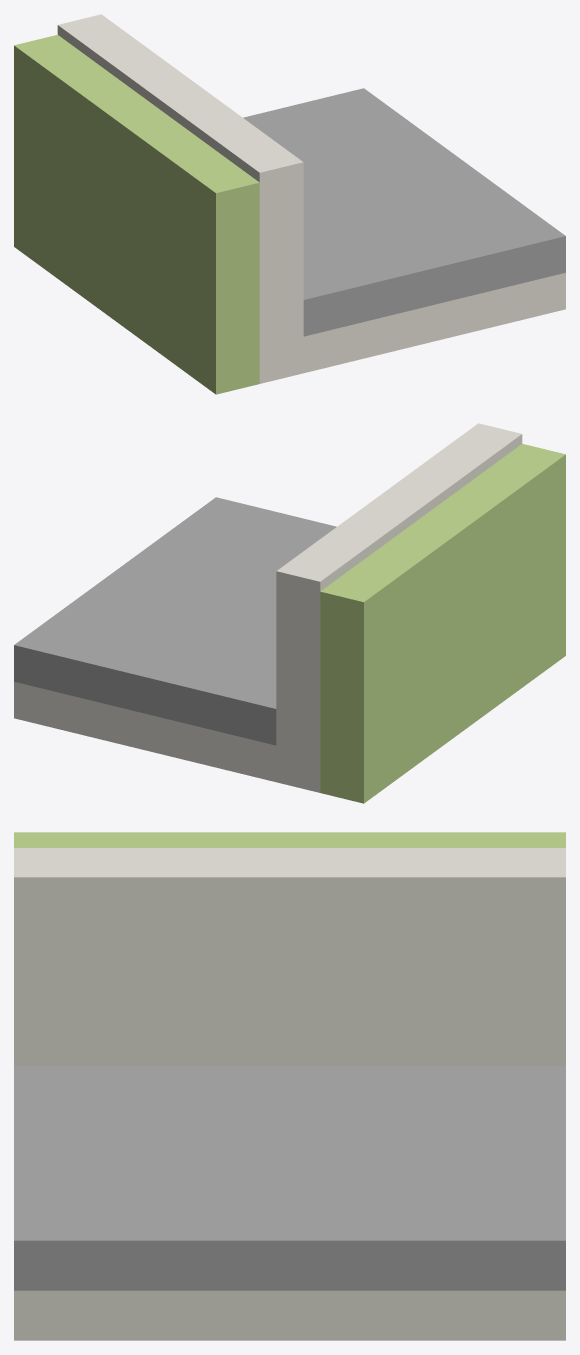
The model's file is road_tile_050.glb.
3 renders of one model, top to bottom at view 1: azimuth 30°, elevation 25°; view 2: azimuth 150°, elevation 25°; view 3: azimuth 270°, elevation 25°, orthographic. The views are drawn at different scales.
Parts seen in each view (by area): view 1: roadTile_050; view 2: roadTile_050; view 3: roadTile_050.
Part boxes in pixels (box(x1,y1,x2,y2)): roadTile_050: box(14, 14, 565, 394); roadTile_050: box(14, 423, 565, 803); roadTile_050: box(14, 832, 565, 1340).
Bounding box in the file's own units: 3 × 1.73 × 3.
